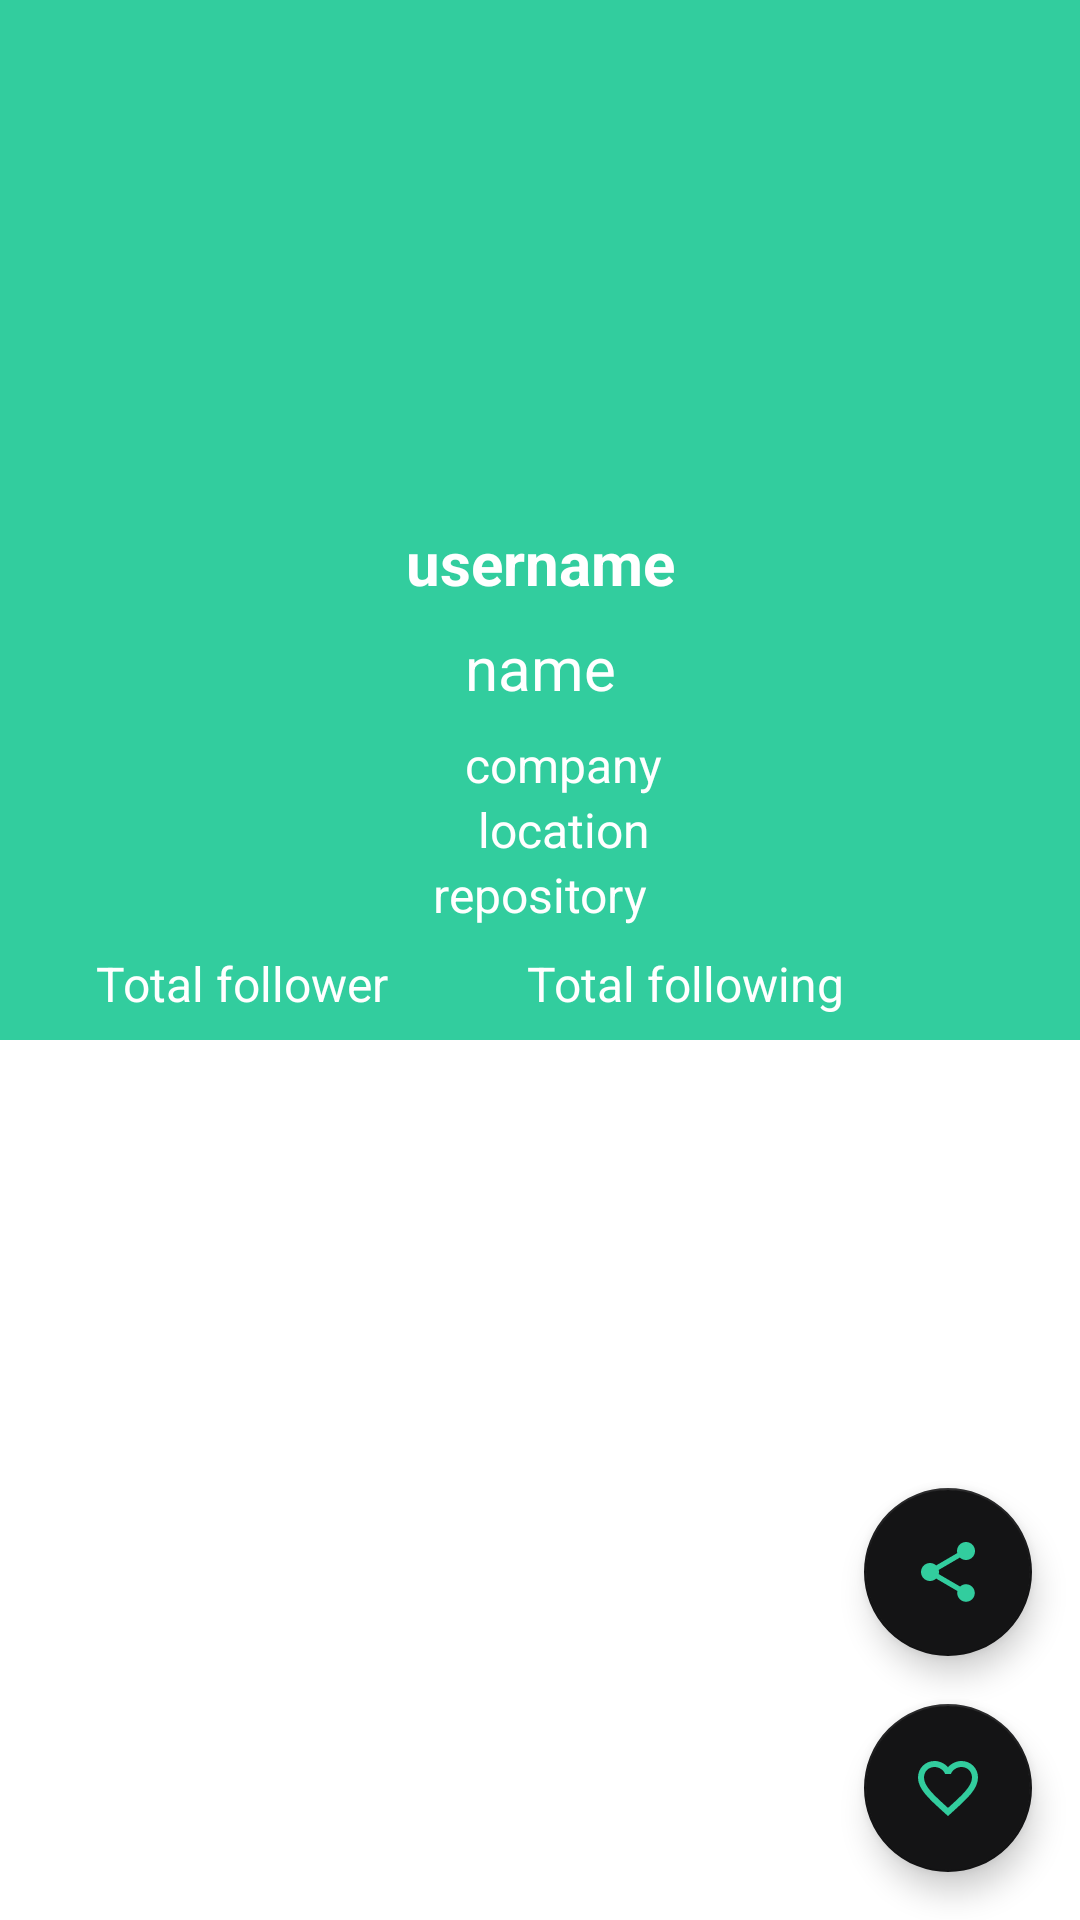

Screen size 1080w x 1920h. Icon name, then its box in pixels as rect(x1, y1, x2, y2):
favorite border: rect(864, 1704, 1032, 1872)
share: rect(864, 1488, 1032, 1656)
